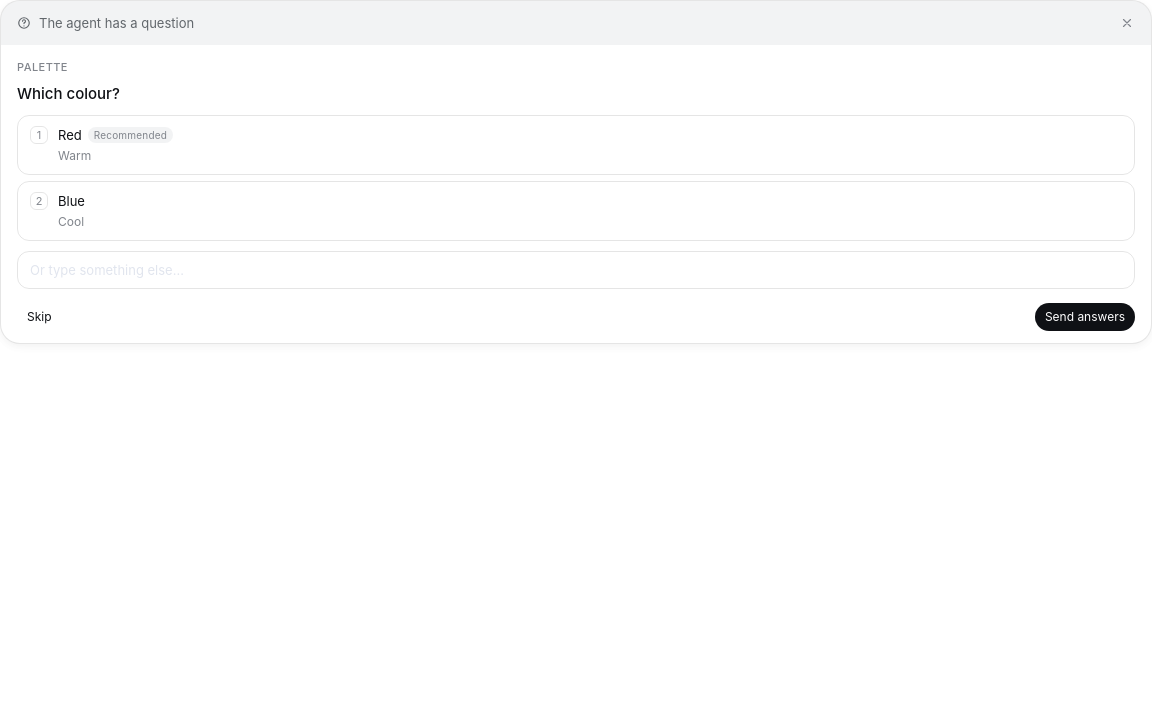
Test case: QuestionComposer › refuses to advance on an untouched question
Click the button "Send answers". click: [1085, 317]
box: [1035, 303, 1135, 331]
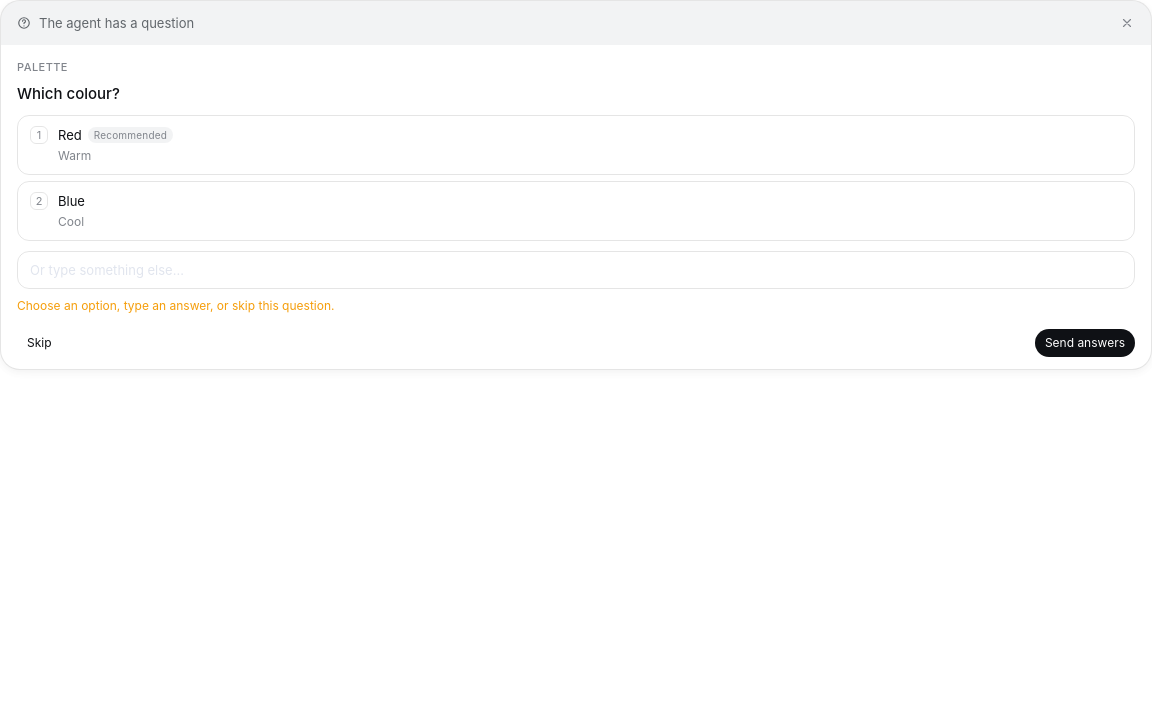
Expected: the text "Choose an option, type an answer, or skip this question." is shown, [17, 298, 334, 313]
